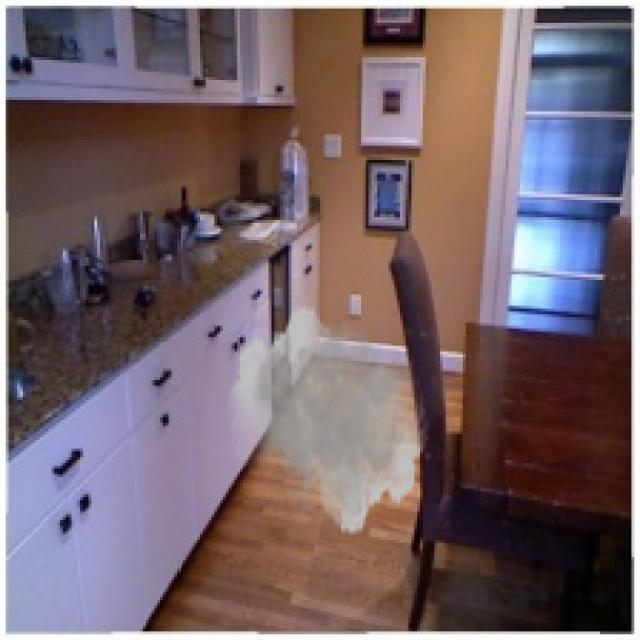Smoke: (226, 302, 428, 538)
